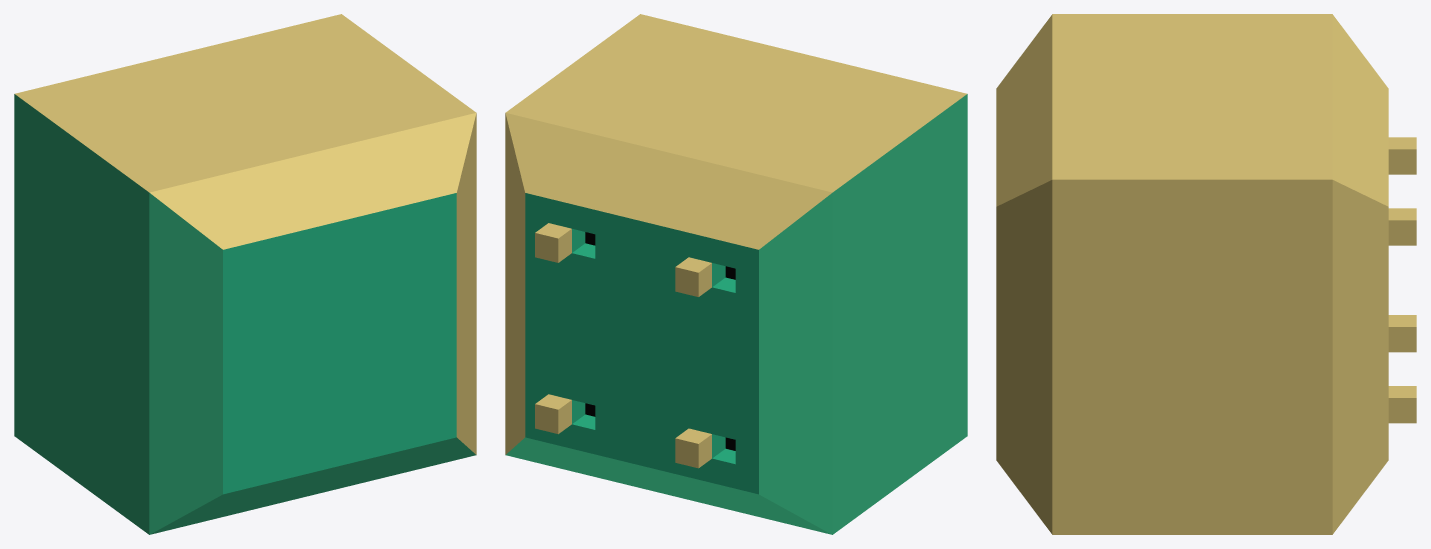
Rendered from br-m-cubeplate-green.fbx.
3 views of the same model, side by side, from view 1: azimuth 30°, elevation 25°; view 2: azimuth 150°, elevation 25°; view 3: azimuth 270°, elevation 25° (orthographic). The views are drawn at different scales.
Parts seen in each view (by area): view 1: cubePlate_green2; view 2: cubePlate_green2; view 3: cubePlate_green2.
Part boxes in pixels (x1=…): cubePlate_green2: x1=14, y1=14, x2=476, y2=534; cubePlate_green2: x1=505, y1=14, x2=967, y2=534; cubePlate_green2: x1=996, y1=14, x2=1416, y2=534.
Bounding box in the file's own units: 0.875 × 0.875 × 0.9375.
